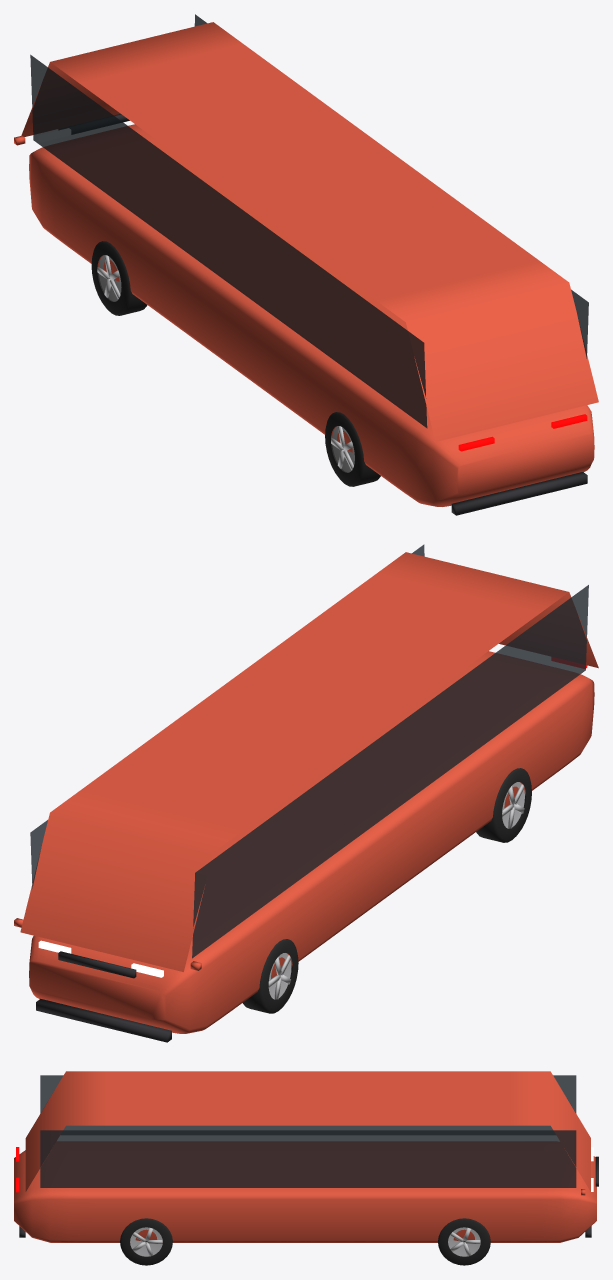
The model's file is tr04_bus.glb.
The picture shows the model from 3 angles, top to bottom: view 1: azimuth 30°, elevation 25°; view 2: azimuth 150°, elevation 25°; view 3: azimuth 270°, elevation 25°; orthographic projection. The views are drawn at different scales.
Parts seen in each view (by area): view 1: tr04_bus_Cabin, tr04_bus_Body, tr04_bus_Glass, tr04_bus_Wheel_FL, tr04_bus_Wheel_RL; view 2: tr04_bus_Cabin, tr04_bus_Body, tr04_bus_Glass, tr04_bus_Wheel_FL, tr04_bus_Wheel_RL; view 3: tr04_bus_Body, tr04_bus_Glass, tr04_bus_Cabin, tr04_bus_Wheel_FR, tr04_bus_Wheel_RR.
Part boxes in pixels (box(x1,y1,x2,y2)): tr04_bus_Cabin: box(21, 22, 598, 441); tr04_bus_Body: box(14, 113, 594, 515); tr04_bus_Glass: box(30, 14, 588, 428); tr04_bus_Wheel_FL: box(91, 241, 147, 315); tr04_bus_Wheel_RL: box(325, 412, 380, 486); tr04_bus_Cabin: box(20, 552, 598, 971); tr04_bus_Body: box(14, 651, 594, 1042); tr04_bus_Glass: box(30, 544, 588, 958); tr04_bus_Wheel_FL: box(243, 939, 298, 1013); tr04_bus_Wheel_RL: box(476, 768, 531, 842); tr04_bus_Body: box(14, 1142, 598, 1242); tr04_bus_Glass: box(40, 1075, 576, 1187); tr04_bus_Cabin: box(25, 1071, 590, 1191); tr04_bus_Wheel_FR: box(438, 1218, 490, 1265); tr04_bus_Wheel_RR: box(120, 1218, 172, 1265).
Size of what is drawn, in the model's own units: 2.74 by 2.9 by 11.04.
